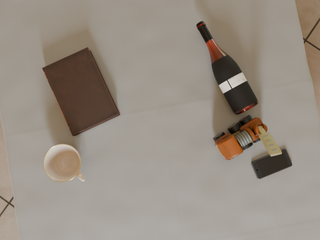book: (42, 47, 120, 136)
bottle: (196, 21, 258, 115)
cup: (43, 144, 85, 182)
phone: (251, 149, 292, 179)
toy_car: (213, 115, 282, 160)
